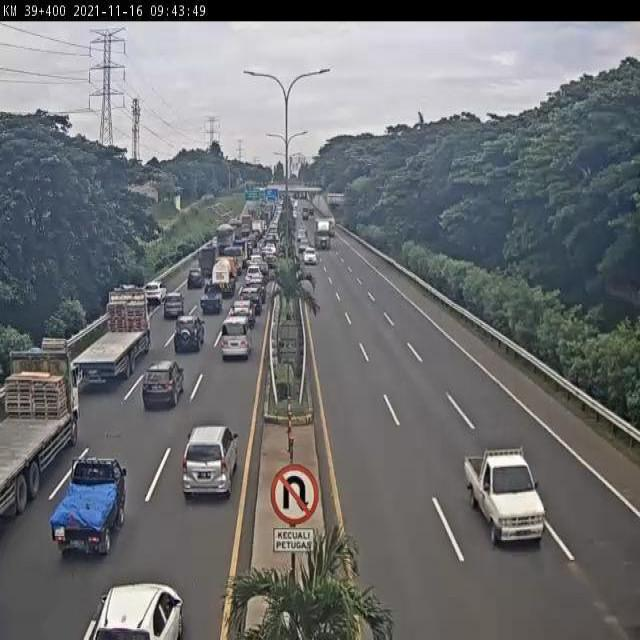car: (463, 446, 549, 546), (51, 457, 127, 556), (83, 584, 182, 640), (183, 425, 240, 503), (142, 360, 182, 409), (219, 319, 253, 365), (172, 314, 203, 354), (199, 283, 223, 316), (230, 300, 254, 333), (163, 293, 185, 320), (240, 287, 262, 313), (142, 285, 164, 307), (248, 277, 268, 299), (186, 269, 203, 291), (246, 265, 264, 284), (302, 245, 315, 260), (248, 254, 264, 266)
small truck: (195, 250, 216, 278), (225, 246, 244, 274)
truck-l-: (0, 348, 78, 521), (74, 288, 151, 379), (314, 219, 330, 248)
truck-m-: (212, 258, 235, 298), (214, 224, 234, 255)
